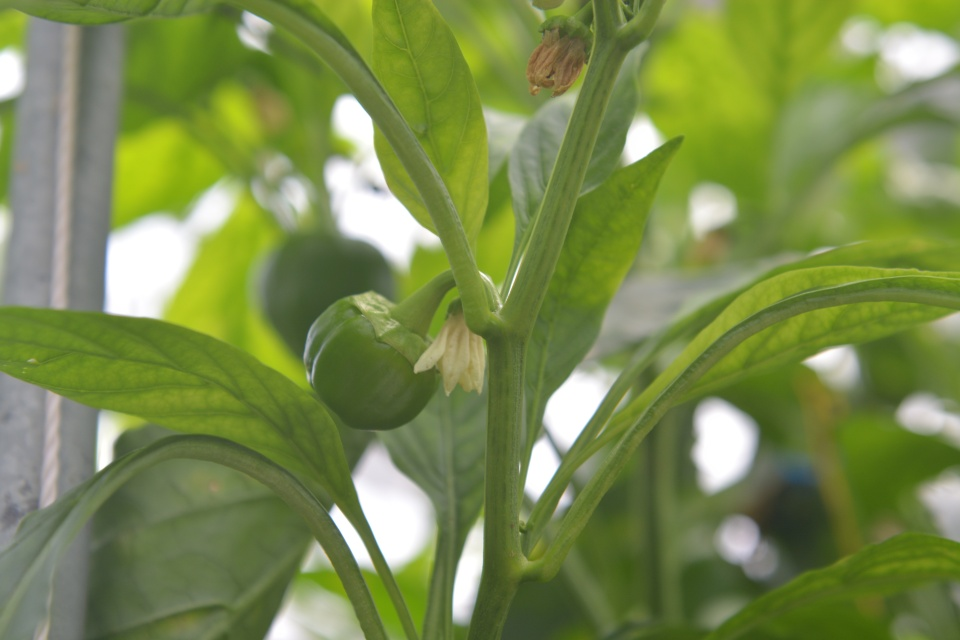flower: (410, 310, 489, 401)
immature: (300, 288, 442, 434), (256, 223, 397, 362)
